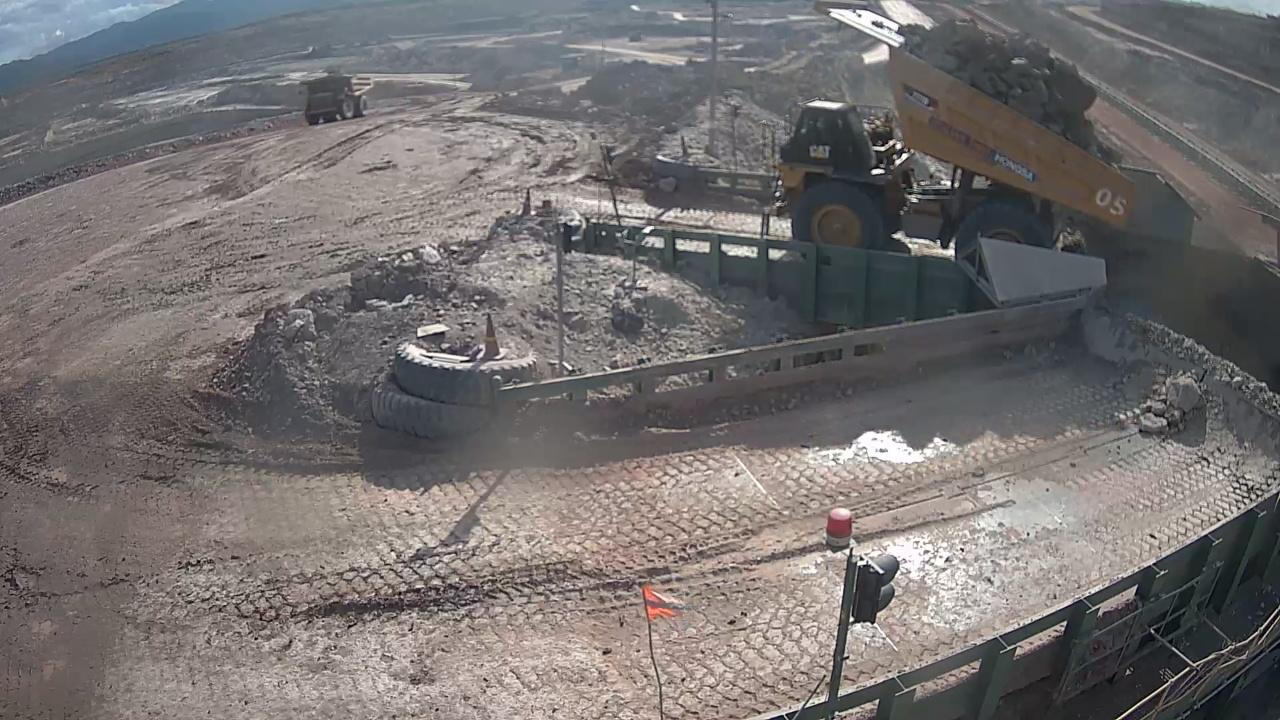dumping_soil: (774, 0, 1139, 282)
full_load: (920, 10, 1104, 134)
mining_truck: (291, 64, 389, 123)
tail_number: (1090, 183, 1131, 222)
